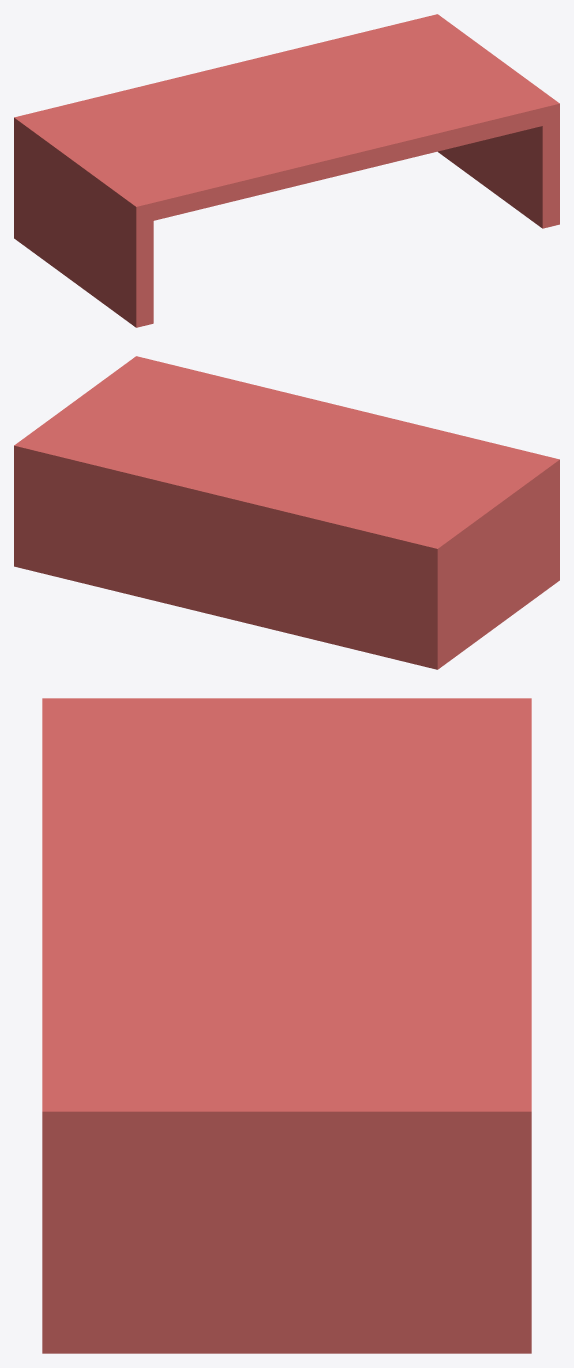
File: shelvesLoPoly.gltf
3 views of the same model, one above another, from view 1: azimuth 30°, elevation 25°; view 2: azimuth 150°, elevation 25°; view 3: azimuth 270°, elevation 25° (orthographic). The views are drawn at different scales.
Parts seen in each view (by area): view 1: shelvesLoPoly; view 2: shelvesLoPoly; view 3: shelvesLoPoly.
Boxes of the visible parts, bbox=[...] form: shelvesLoPoly: bbox=[14, 14, 559, 327]; shelvesLoPoly: bbox=[14, 356, 559, 669]; shelvesLoPoly: bbox=[42, 698, 531, 1353].
Size of the model in its own units: 1.1 by 0.3 by 0.55.
